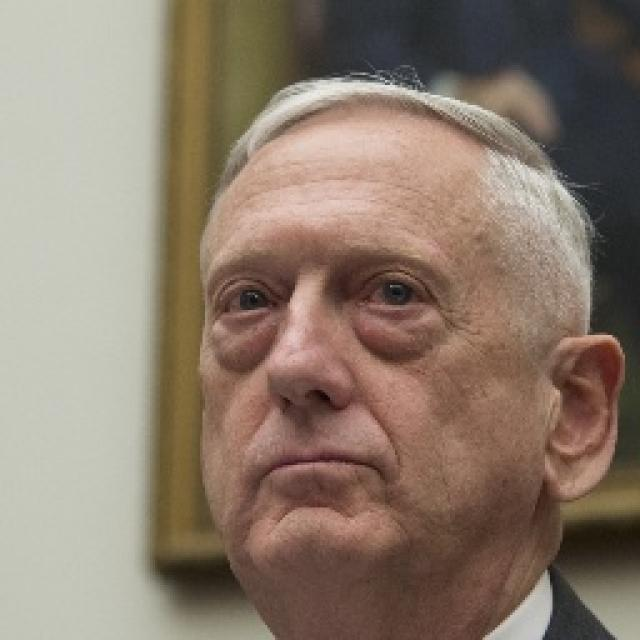earlobe: (540, 447, 586, 504)
eye: (362, 270, 435, 314), (215, 280, 278, 319)
nose: (268, 385, 352, 442)
wholeear: (540, 333, 626, 504)
